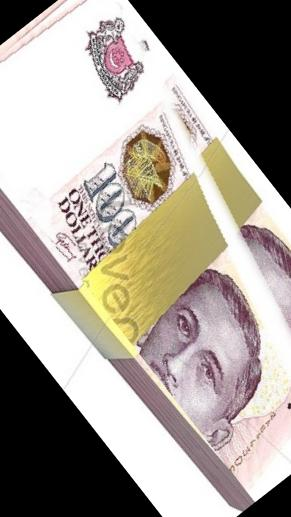1000SingaporeDollar: (0, 0, 291, 501)
